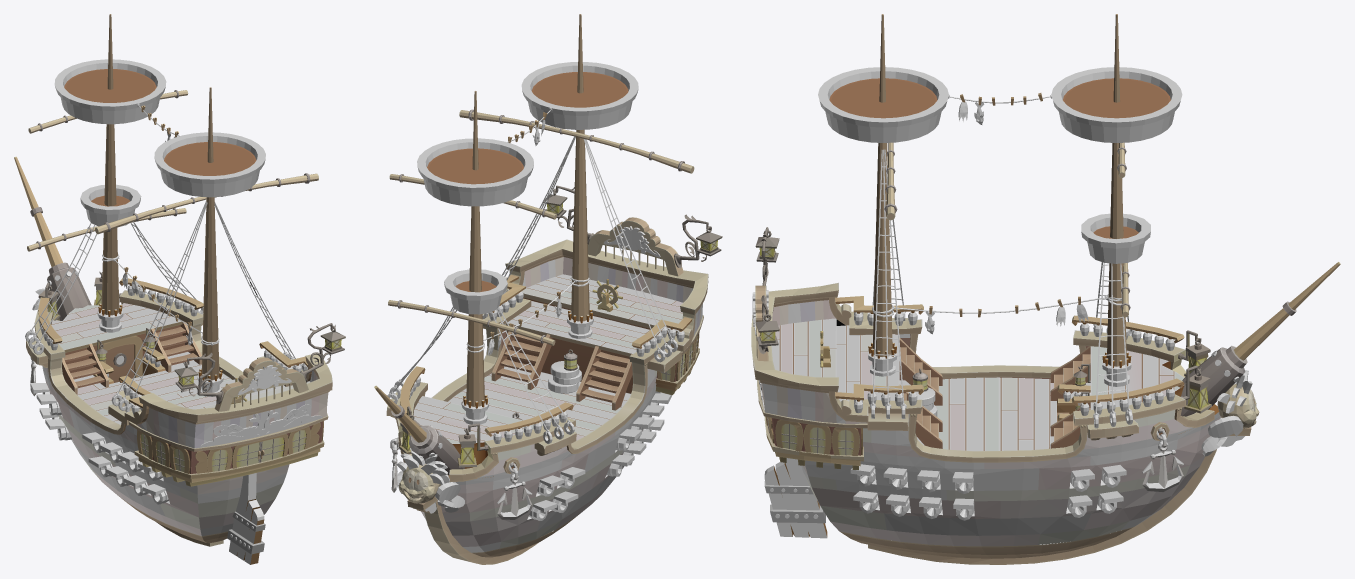
3 views of the same model, side by side, from view 1: azimuth 30°, elevation 25°; view 2: azimuth 150°, elevation 25°; view 3: azimuth 270°, elevation 25° (orthographic). The views are drawn at different scales.
Visible parts, largest first — view 1: polySurface11; view 2: polySurface11; view 3: polySurface11.
Boxes of the visible parts, x1,y1,x2,y2 form: polySurface11: [14, 14, 345, 564]; polySurface11: [374, 14, 722, 564]; polySurface11: [751, 14, 1340, 564].
Bounding box in the file's own units: 12.24 × 24.7 × 24.18.
